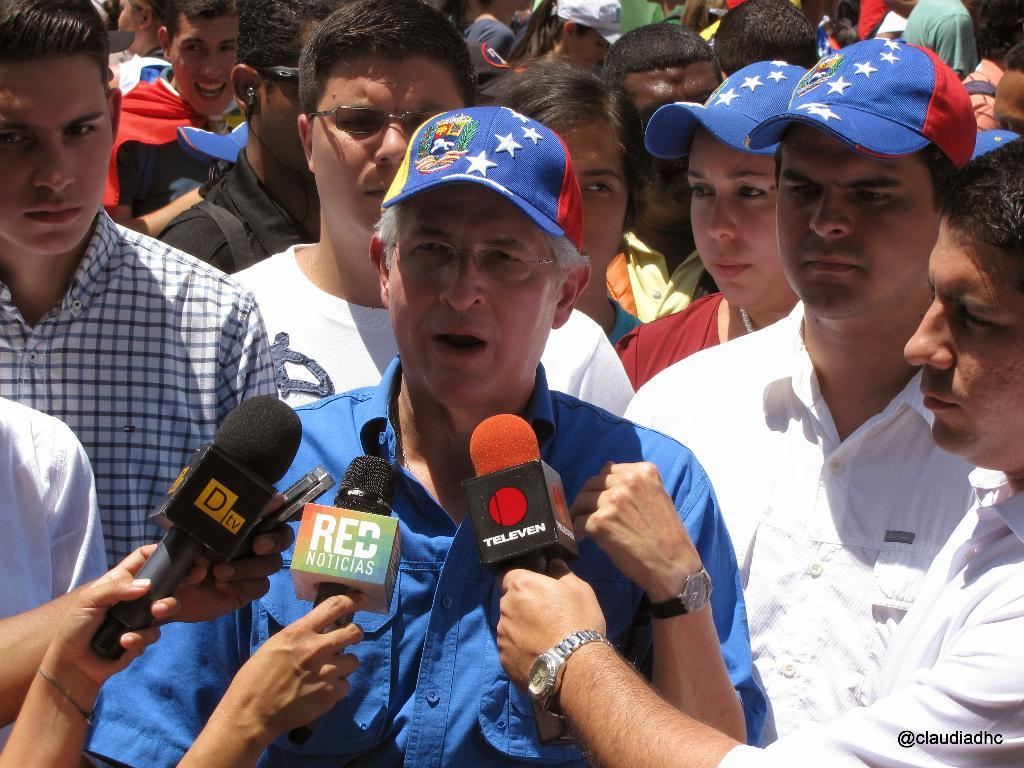Hat: (376, 103, 578, 252), (772, 31, 980, 170), (645, 54, 809, 162), (556, 0, 626, 45)
